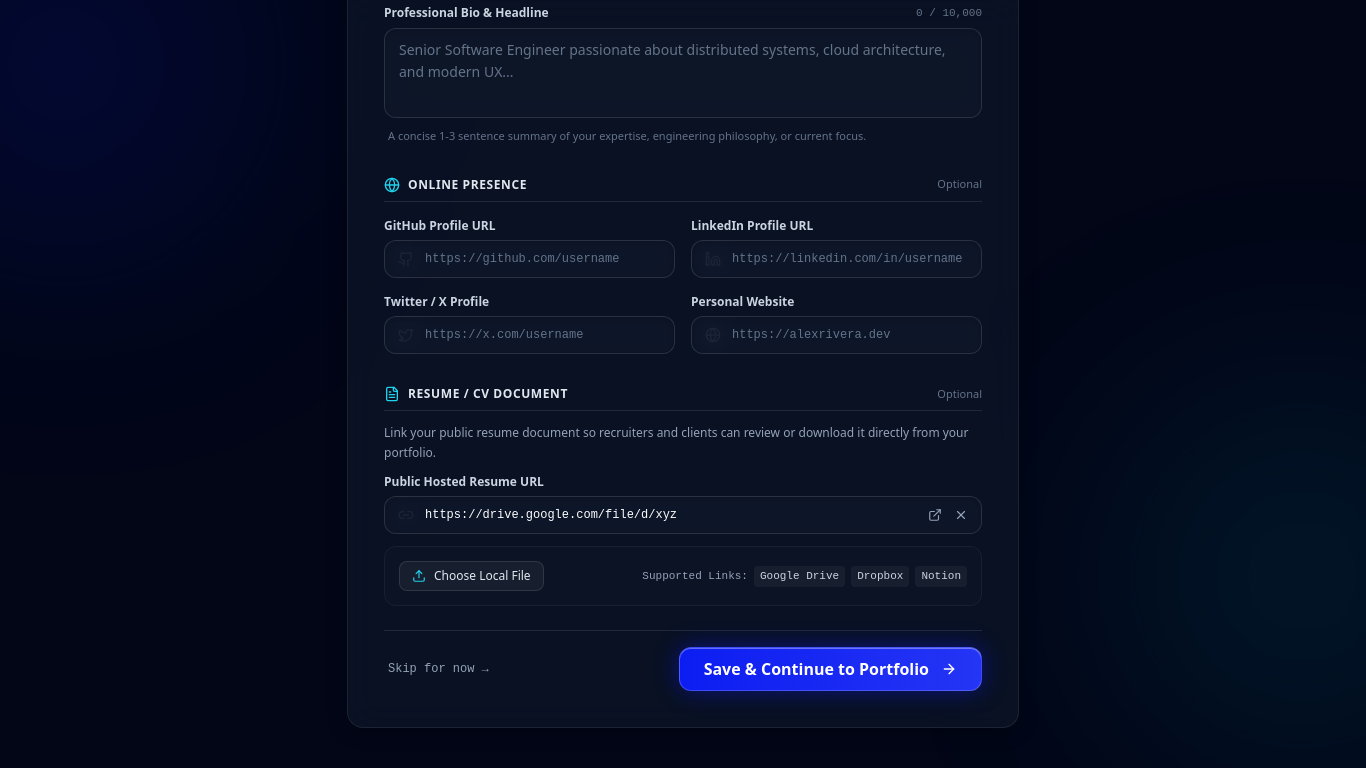
Test: PROFILE SETUP, SETTINGS & HEADER NAVIGATION TESTS › 1. ProfilePage (Post-Registration Onboarding) › should allow clearing an existing resume link
The width and height of the screenshot is (1366, 768).
(page scrolled)
Expected: the field showing "https://drive.google.com/file/d/xyz" is shown, [384, 496, 982, 534]
Click the button named "clear resume link".
click(961, 515)  # box [950, 504, 972, 526]
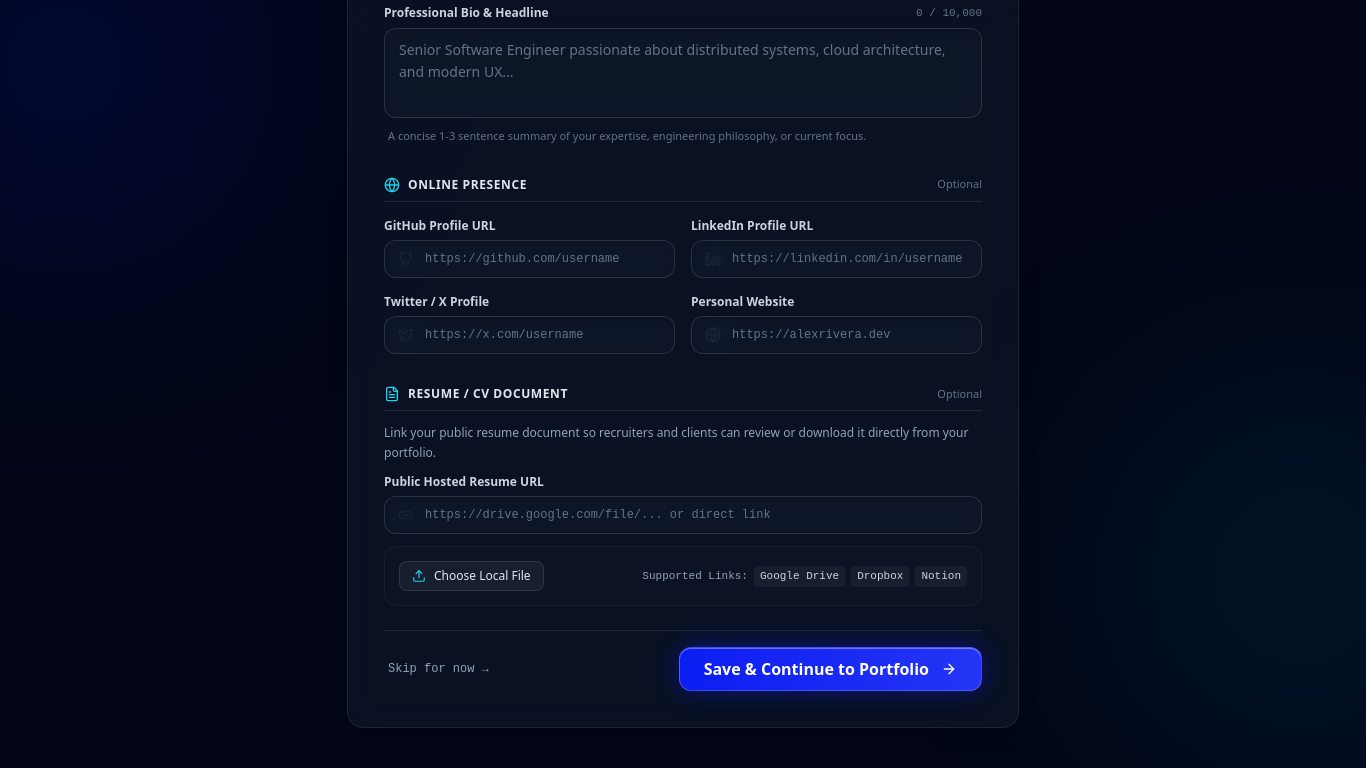
Result: the field with placeholder "https://drive.google.com/file/... or direct link" is empty at [384, 496, 982, 534]
